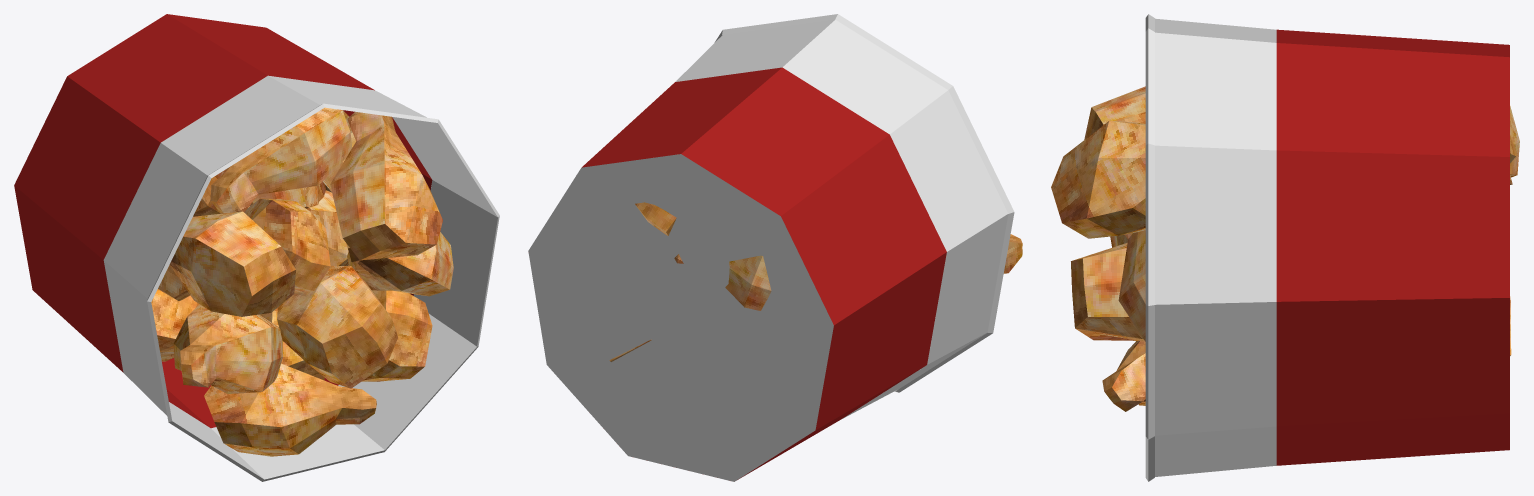
Rendered from crispy-chicken-bucket---ps1-low-poly-5fbb0f.glb.
3 renders of one model, left to right at view 1: azimuth 30°, elevation 25°; view 2: azimuth 150°, elevation 25°; view 3: azimuth 270°, elevation 25°, orthographic. The views are drawn at different scales.
Parts seen in each view (by area): view 1: PropMesh; view 2: PropMesh; view 3: PropMesh.
Part boxes in pixels (<box>): PropMesh: <box>14,14,499,481</box>; PropMesh: <box>528,14,1022,481</box>; PropMesh: <box>1051,14,1519,481</box>.
Bounding box in the file's own units: 2.23 × 2.2 × 2.23.
Materials: 3 (1 with a texture image).
